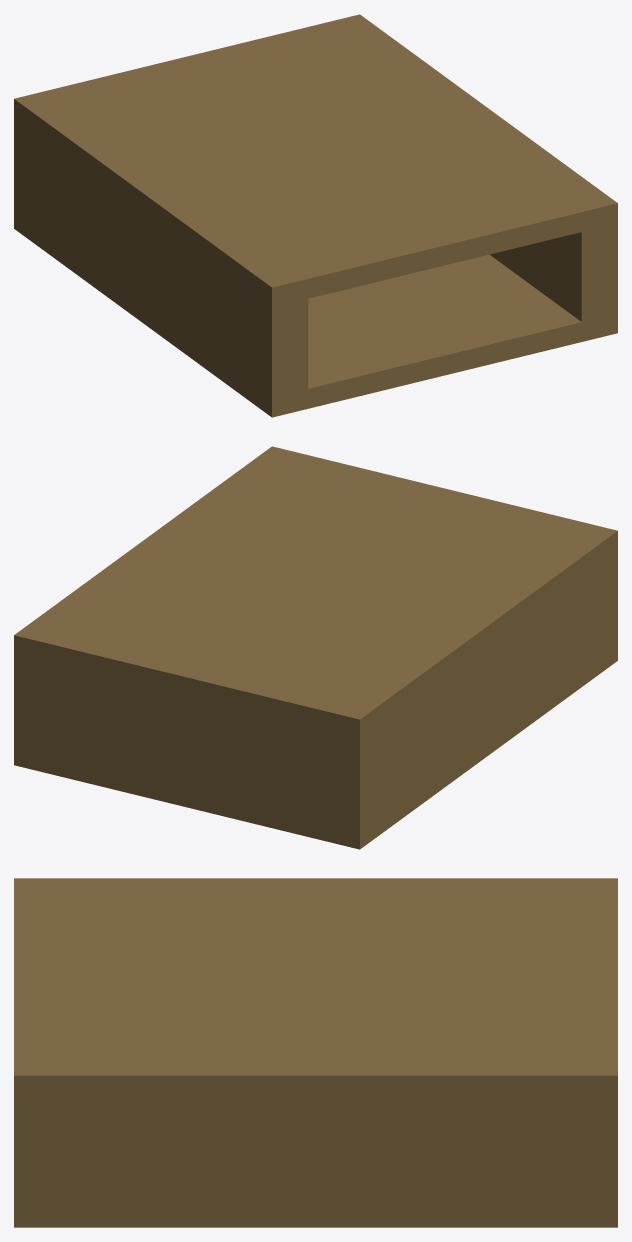
The model's file is Itr_Desk_Drawer_Top_01.FBX.
3 renders of one model, top to bottom at view 1: azimuth 30°, elevation 25°; view 2: azimuth 150°, elevation 25°; view 3: azimuth 270°, elevation 25°, orthographic. The views are drawn at different scales.
Visible parts, largest first — view 1: Itr_Desk_Drawer_Top_01; view 2: Itr_Desk_Drawer_Top_01; view 3: Itr_Desk_Drawer_Top_01.
Part boxes in pixels (bbox=[...]): Itr_Desk_Drawer_Top_01: bbox=[14, 14, 617, 417]; Itr_Desk_Drawer_Top_01: bbox=[14, 446, 617, 849]; Itr_Desk_Drawer_Top_01: bbox=[14, 878, 617, 1227].
Bounding box in the file's own units: 18.22 × 6.54 × 23.55.
